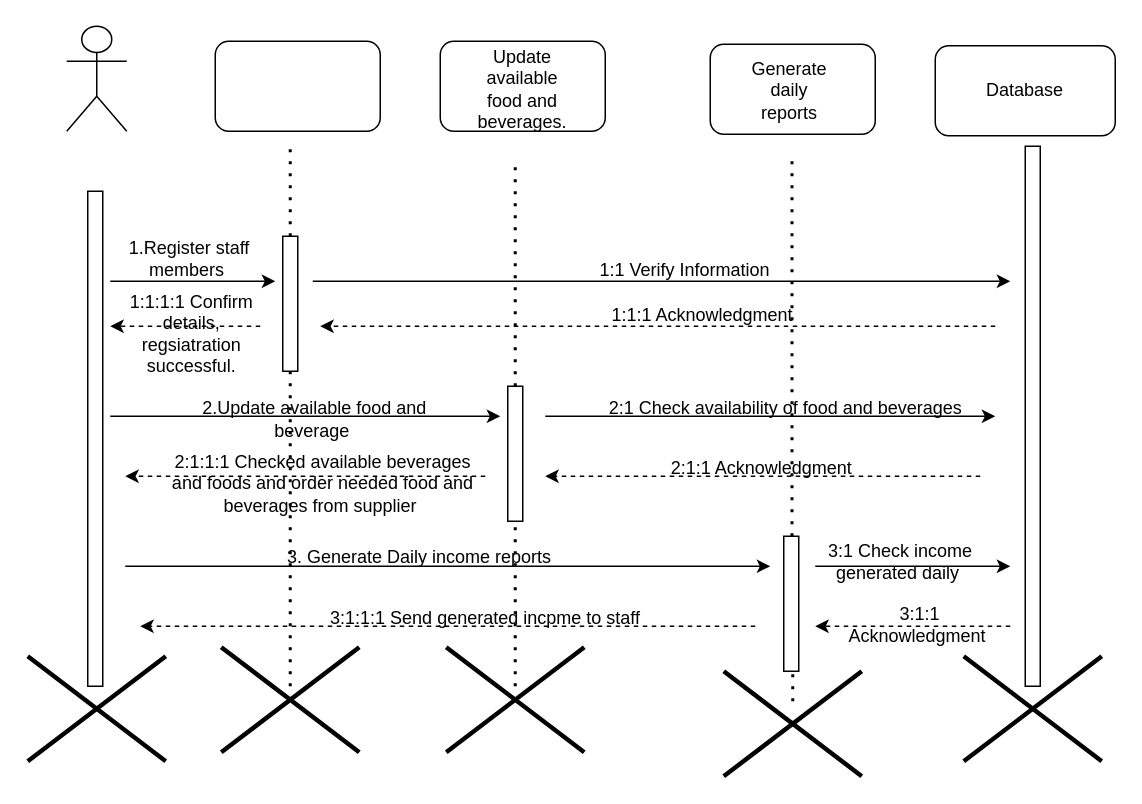
Some shapes in this 1142 by 804 pixel diagram are drawn without their labels. The centre of each missing label's shape, as x and y in pixels:
"Actor" belongs at point (96, 78).
"Register all staff members" belongs at point (297, 85).
